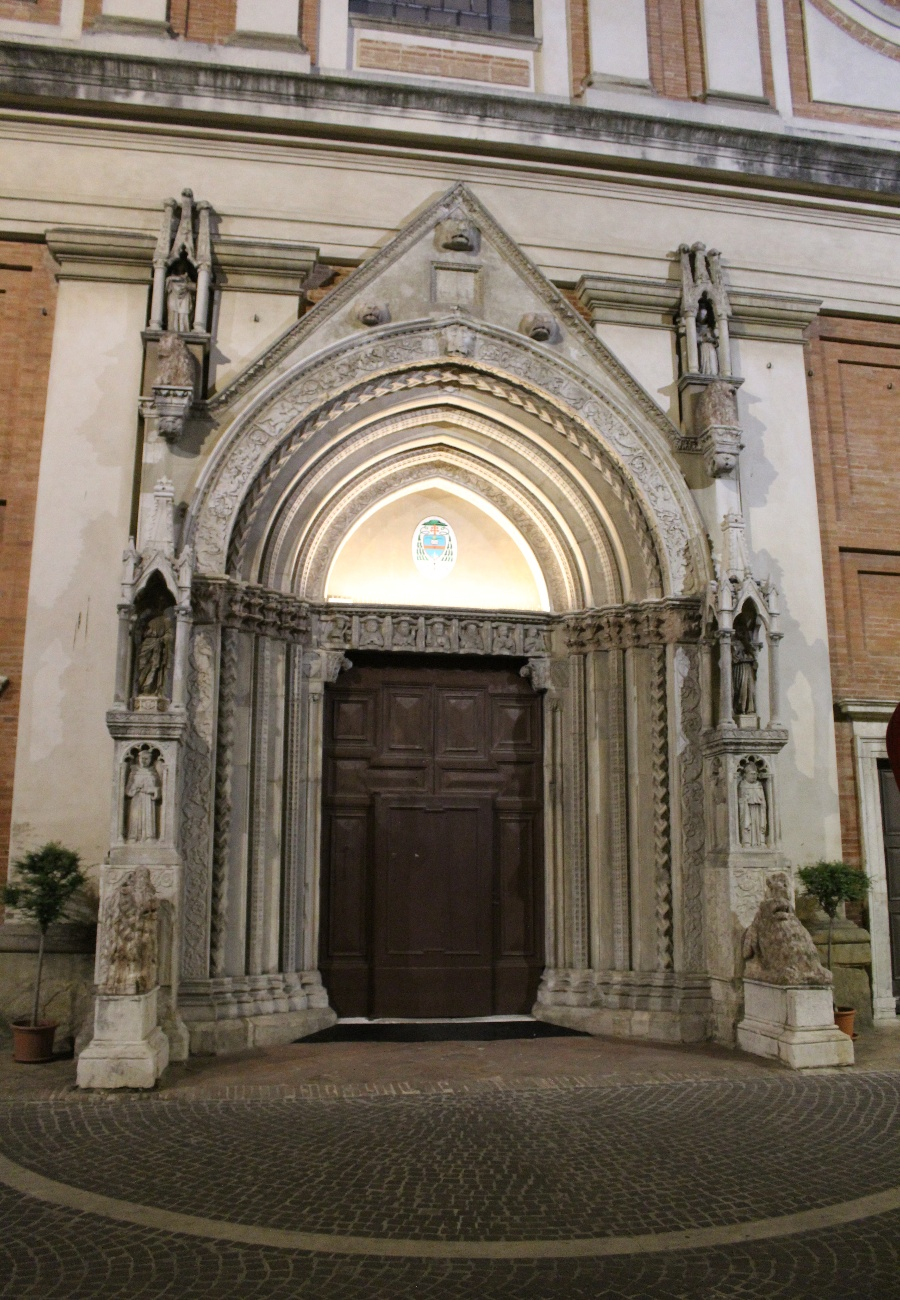Chiesa San Agostino: (1, 1, 900, 1107)
